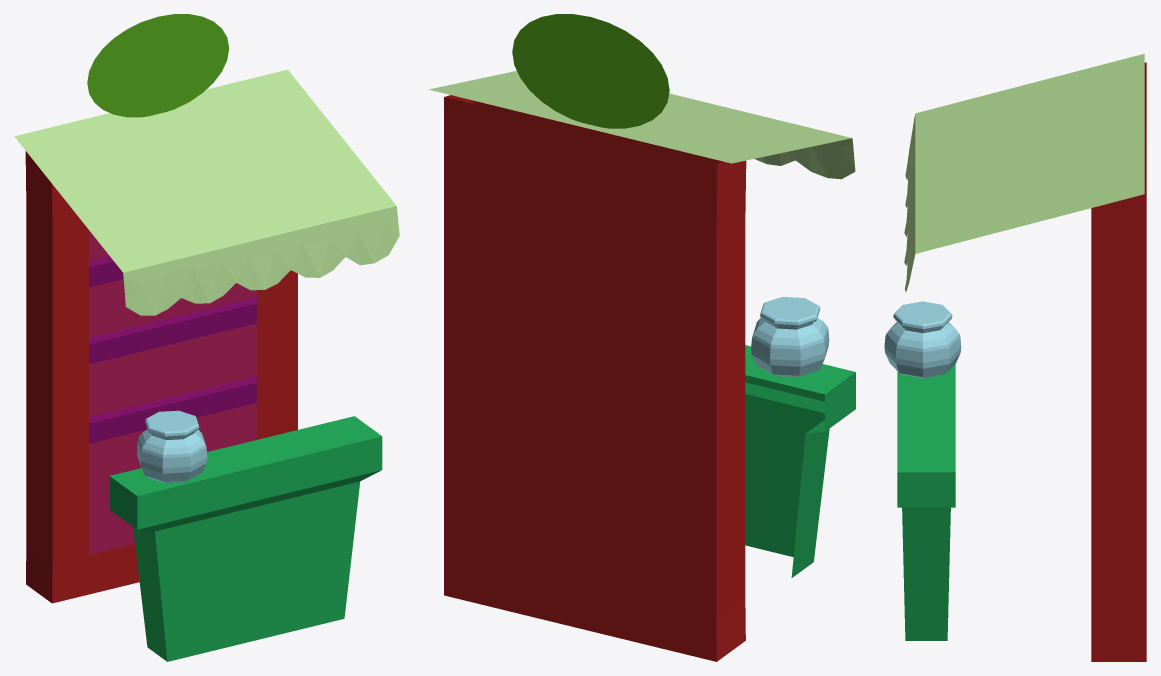
File: miel.fbx
3 views of the same model, side by side, from view 1: azimuth 30°, elevation 25°; view 2: azimuth 150°, elevation 25°; view 3: azimuth 270°, elevation 25° (orthographic). The views are drawn at different scales.
Visible parts, largest first — view 1: miel_2_uvs; view 2: miel_2_uvs; view 3: miel_2_uvs.
Part boxes in pixels (x1=…): miel_2_uvs: x1=14, y1=14, x2=399, y2=661; miel_2_uvs: x1=428, y1=14, x2=855, y2=661; miel_2_uvs: x1=884, y1=53, x2=1146, y2=661.
Bounding box in the file's own units: 70.21 × 134 × 55.32.
